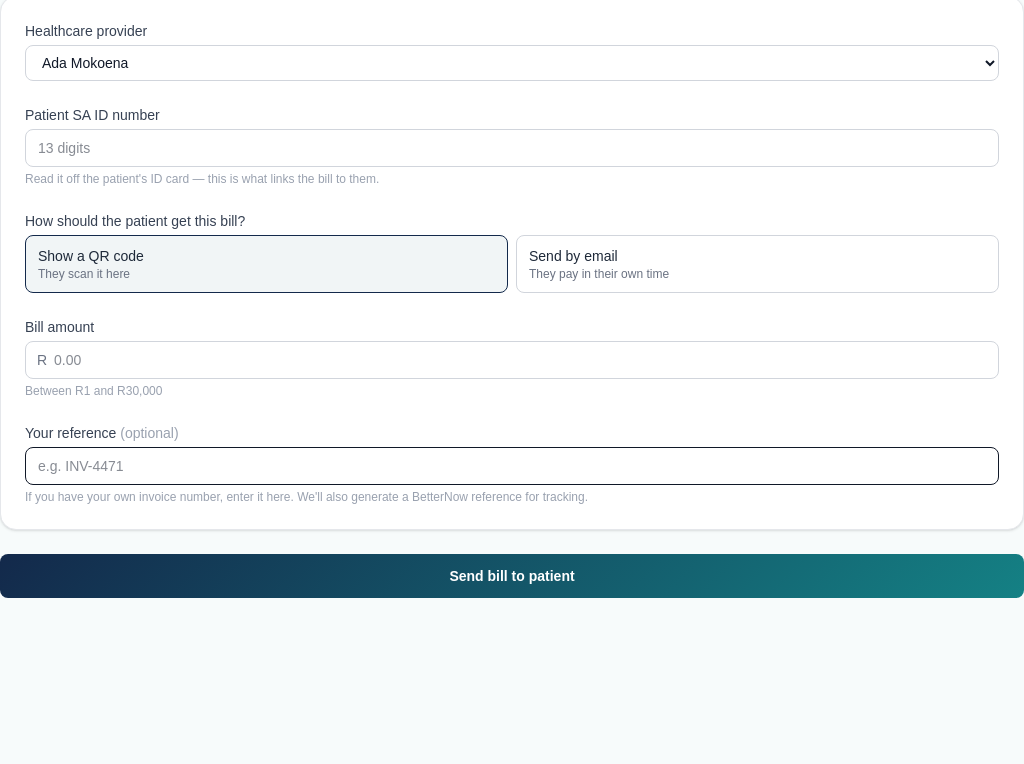
it: email validation has the same visible treatment (no silent gap) › a malformed email is reported inline and blocks submission
Type "9001015800088" into the field with test id "bill-said-input" at point(512, 148), box 25,129 -> 999,167
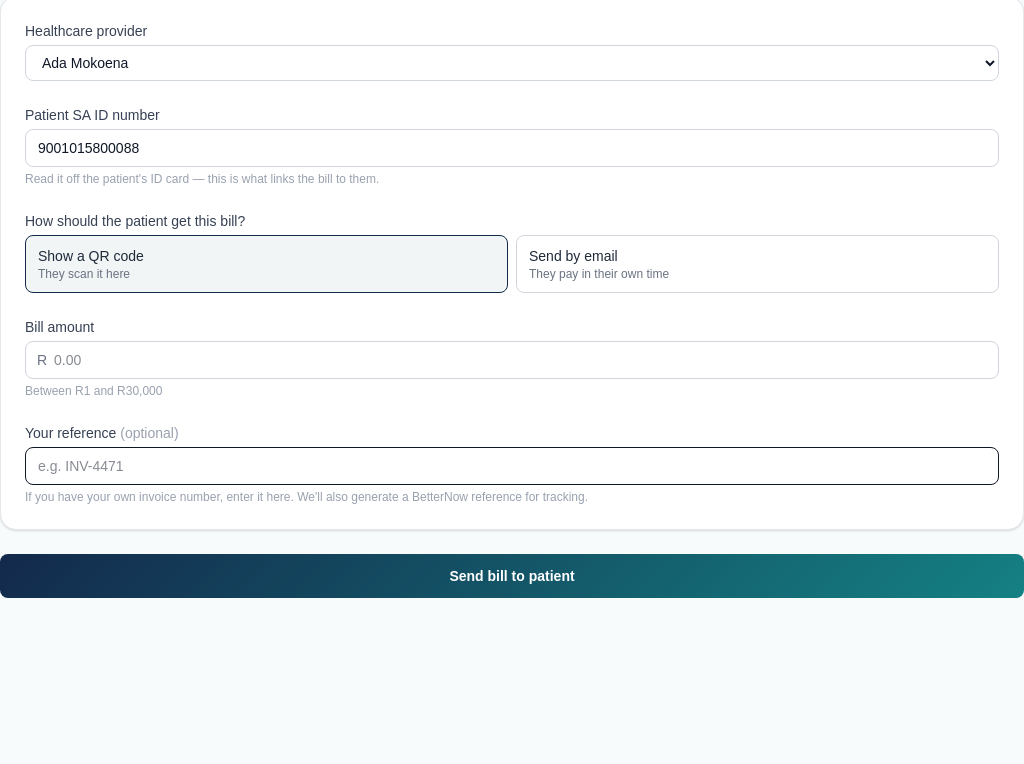
Click the radio button with test id "delivery-email" at point(573, 256), box 516,235 -> 999,293
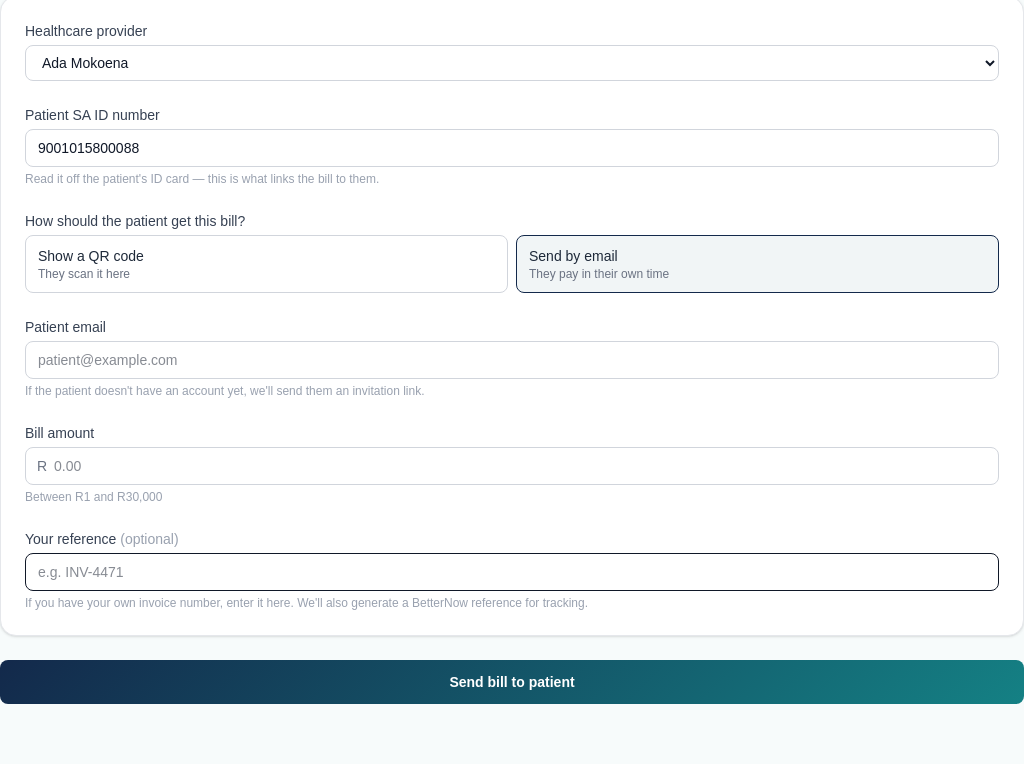
Type "not-an-email" into the field labelled "Patient email" at point(512, 360), box 25,341 -> 999,379
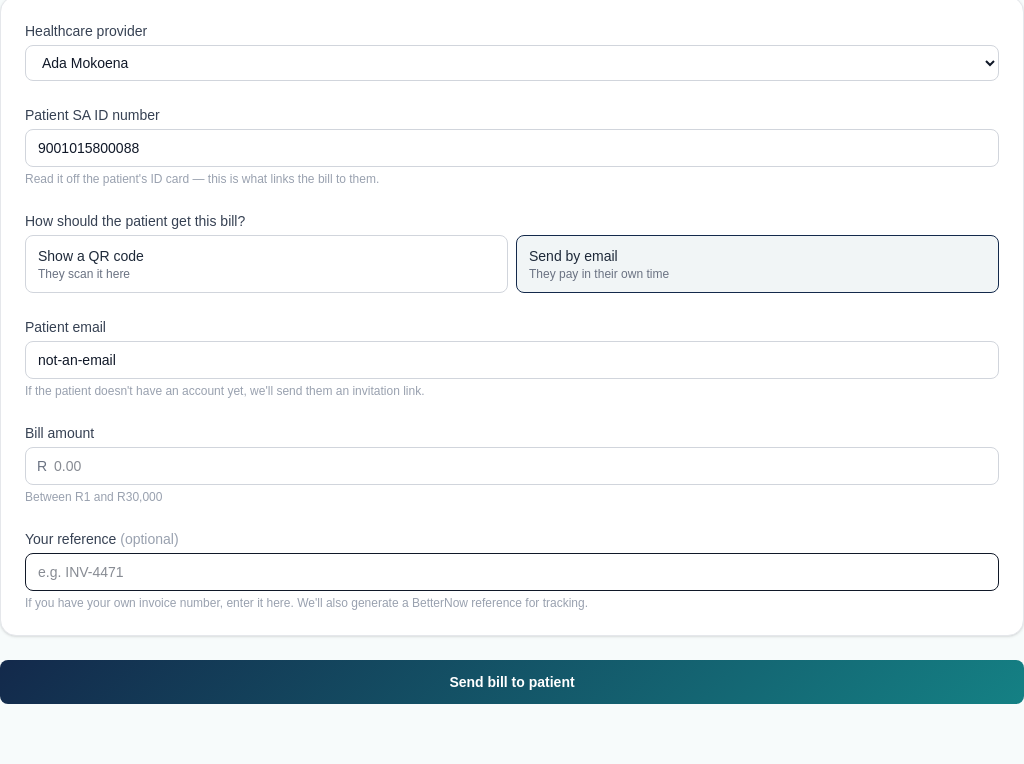
Type "600" into the number field labelled "Bill amount" at point(512, 466), box 25,447 -> 999,485
(page scrolled)
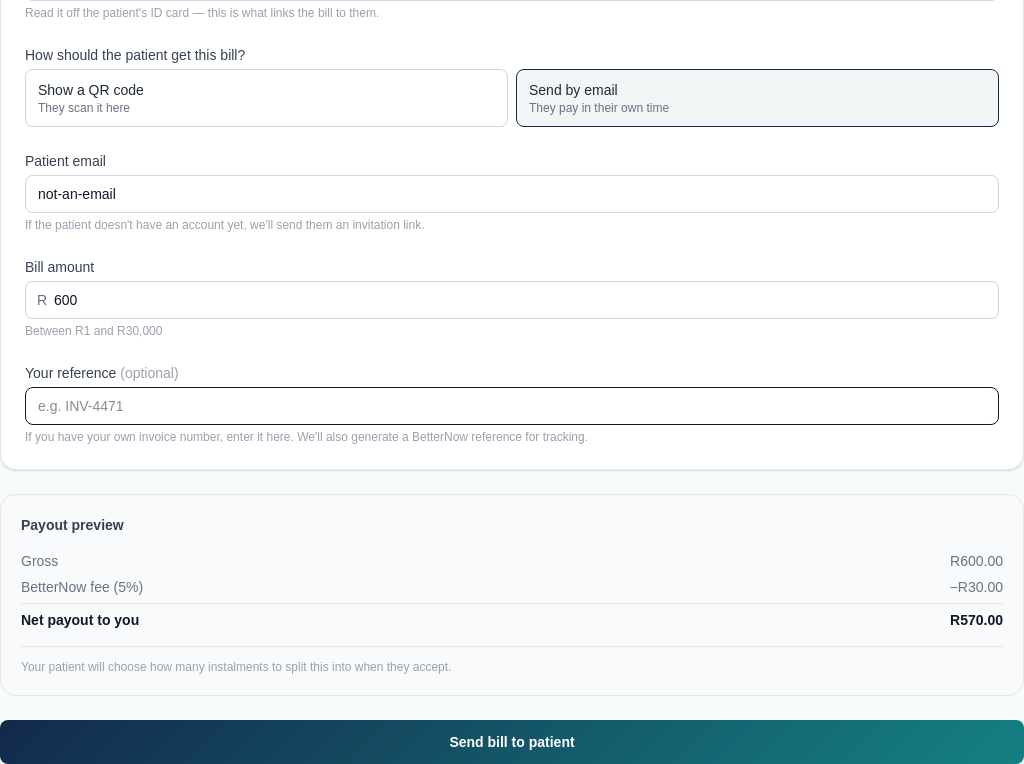
Click the button with test id "submit-bill" at point(512, 742), box 0,720 -> 1023,763
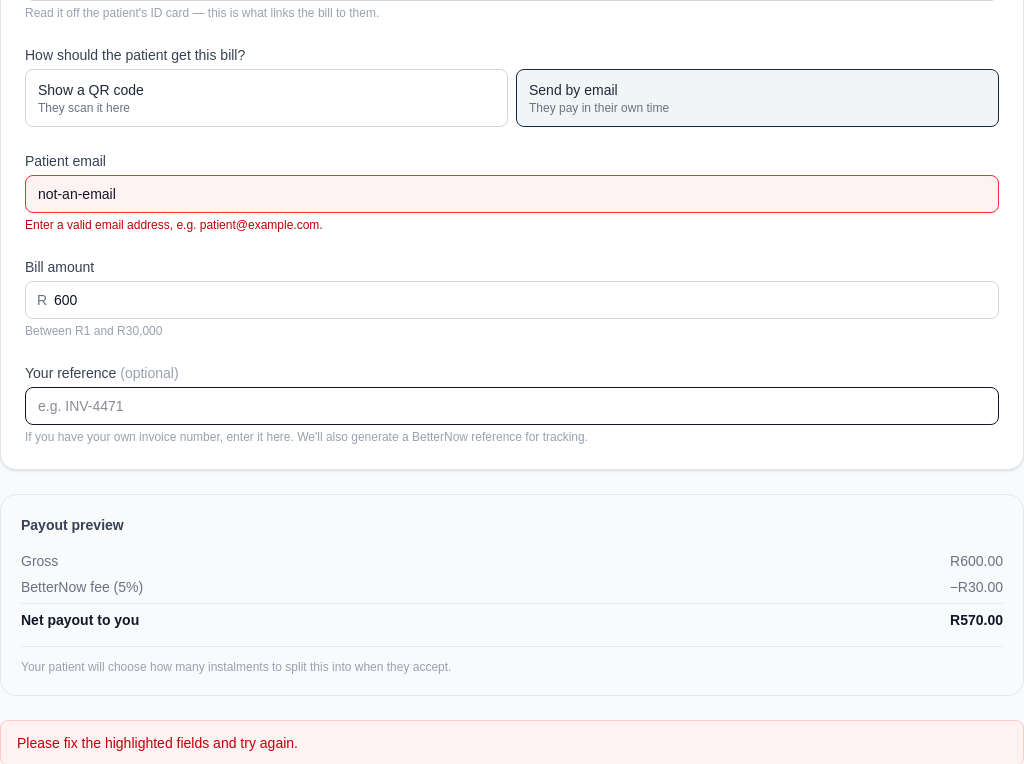
Now the message with test id "email-error" shows "valid email address", box 25,218 -> 323,232
